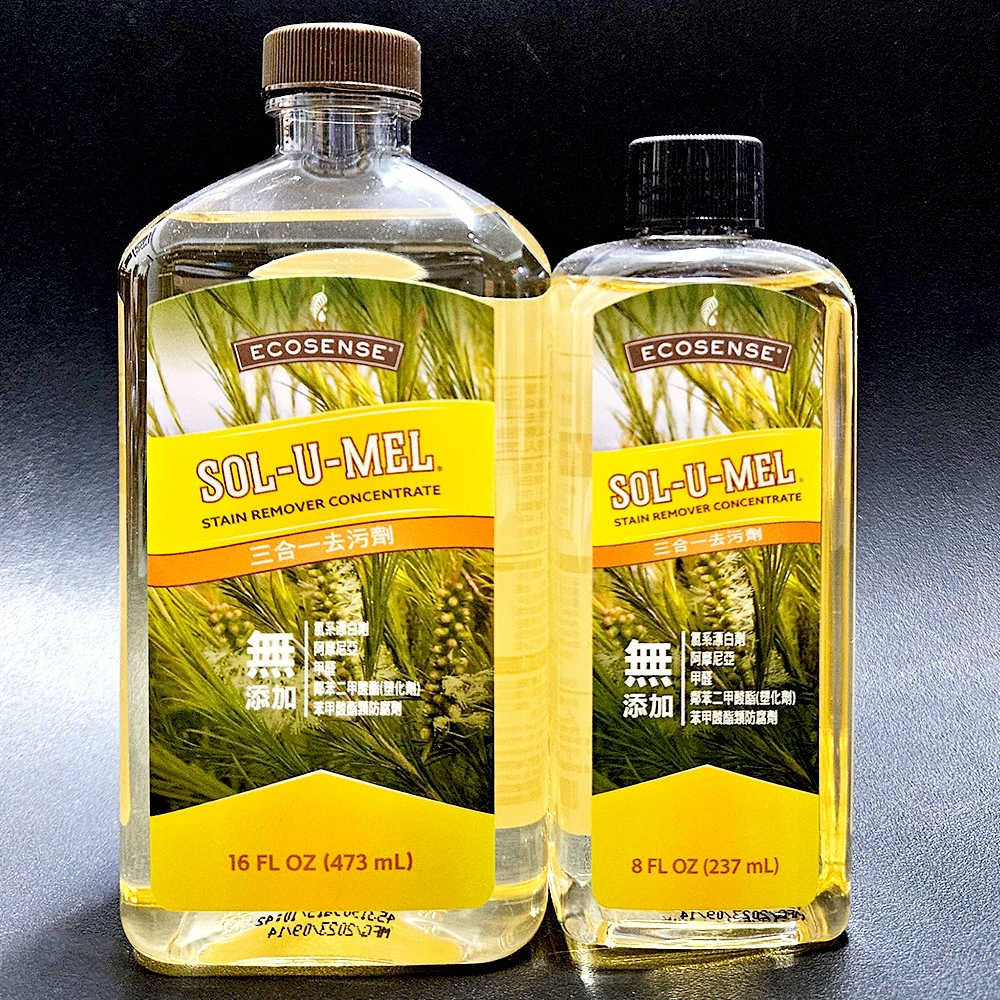cleaner: (95, 19, 578, 979), (505, 122, 874, 959)
